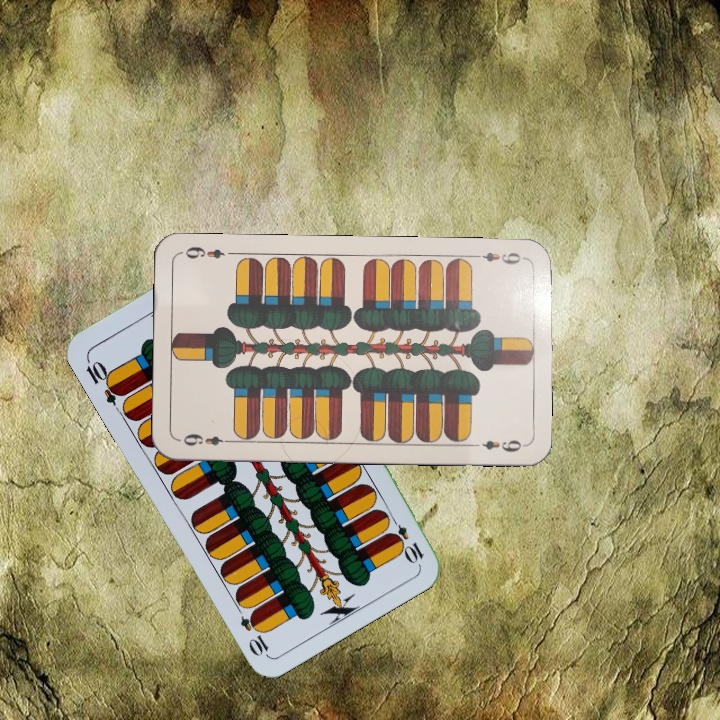E10: (82, 354, 127, 407), (384, 511, 427, 566)
E9: (469, 248, 528, 267), (179, 429, 235, 449)
